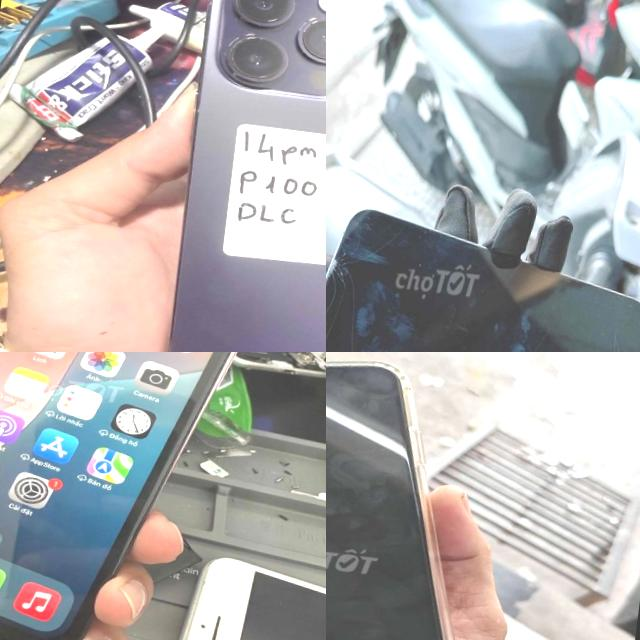scratch: (419, 226, 457, 264), (506, 307, 536, 352)
screen_defect: (326, 220, 398, 352)
